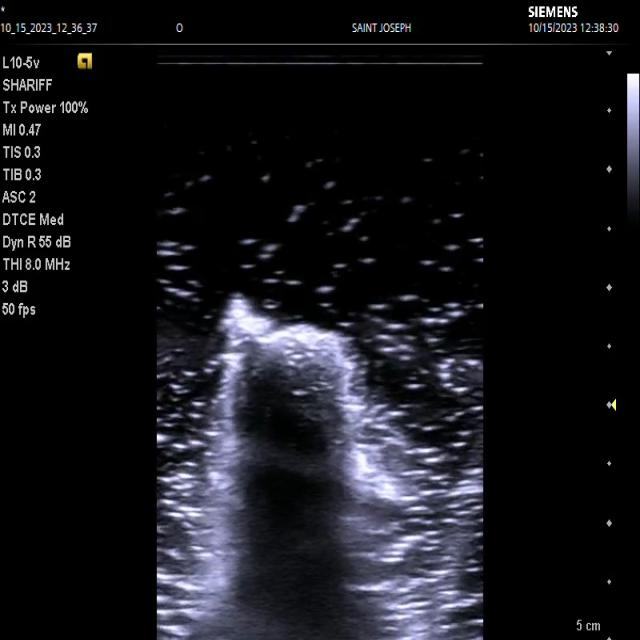tissue: (184, 324, 398, 640)
